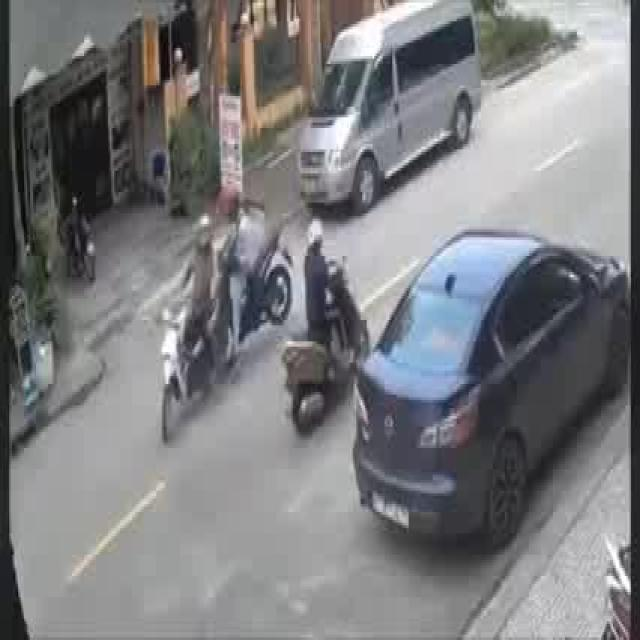multiple_accident: (157, 179, 293, 454)
normal: (344, 197, 629, 563), (254, 0, 503, 234), (276, 209, 387, 441)
